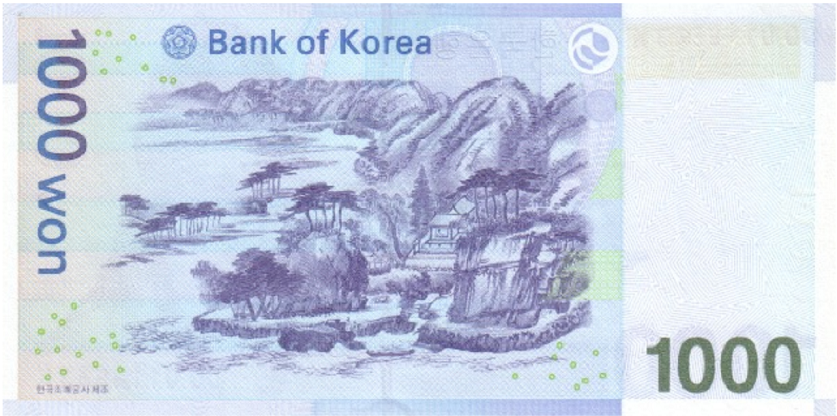1000won: (3, 1, 834, 416)
